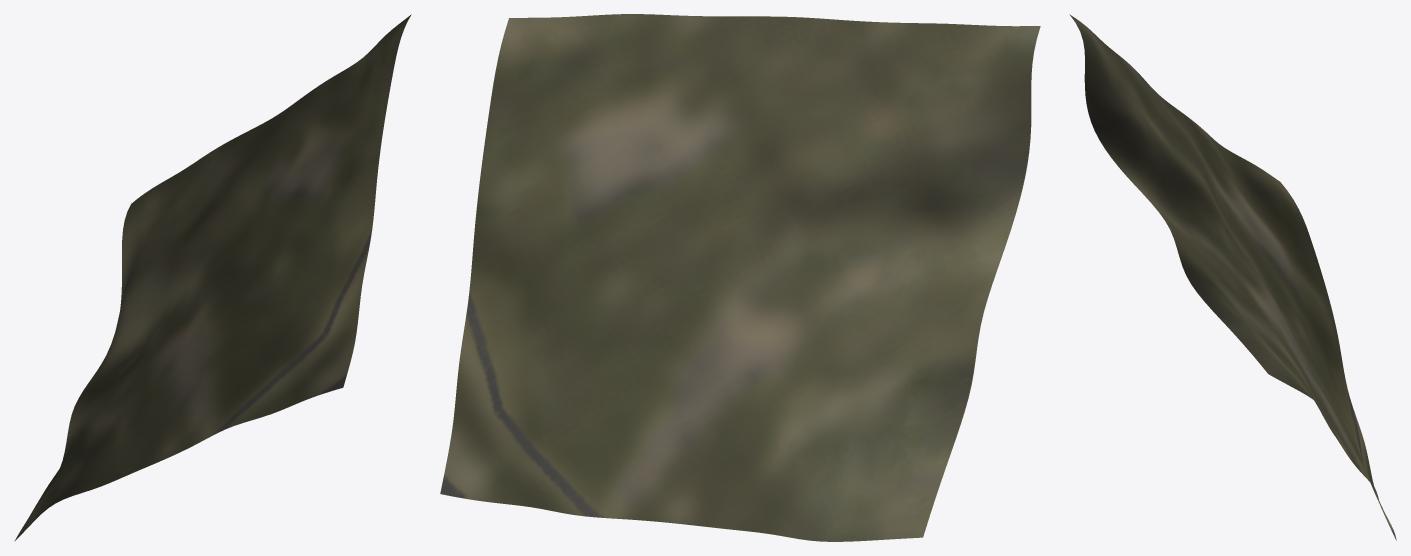
Rendered from ground_mid_06_08.obj.
The picture shows the model from 3 angles, left to right: view 1: azimuth 30°, elevation 25°; view 2: azimuth 150°, elevation 25°; view 3: azimuth 270°, elevation 25°; orthographic projection. The views are drawn at different scales.
Parts seen in each view (by area): view 1: ground_mid_06_08; view 2: ground_mid_06_08; view 3: ground_mid_06_08.
Boxes of the visible parts, x1,y1,x2,y2 form: ground_mid_06_08: (14,14,411,541); ground_mid_06_08: (440,14,1040,541); ground_mid_06_08: (1069,14,1396,540).
Size of the model in its own units: 200 by 200 by 165.
Materials: 1 (1 with a texture image).
